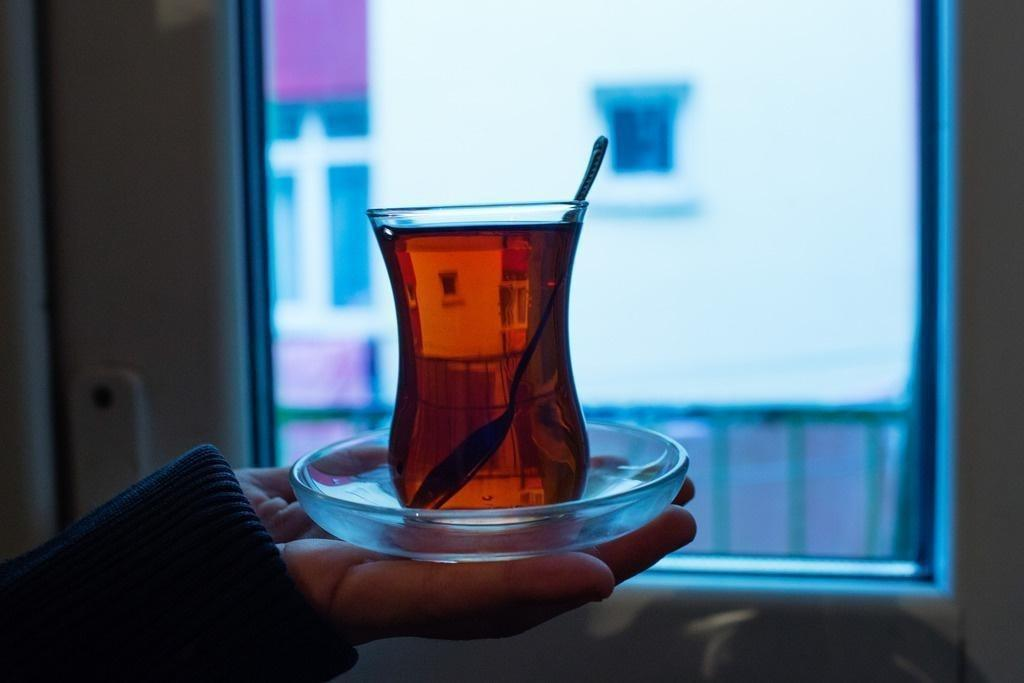glass-normal: (361, 196, 597, 514)
